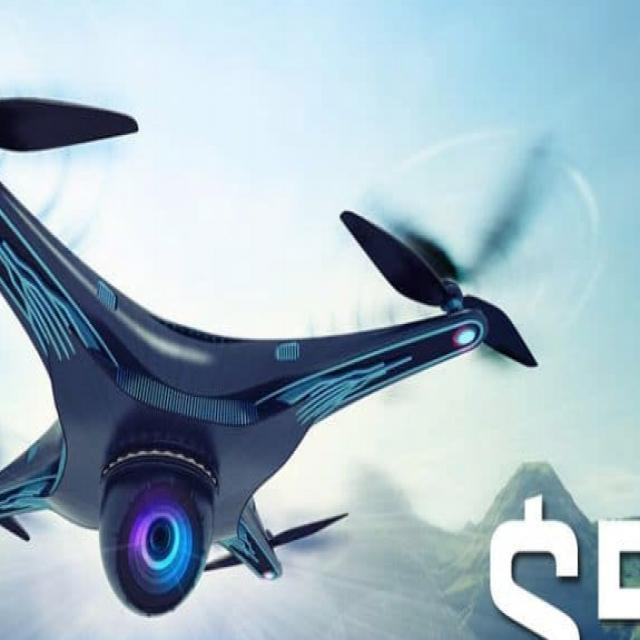drone: (0, 25, 563, 640)
